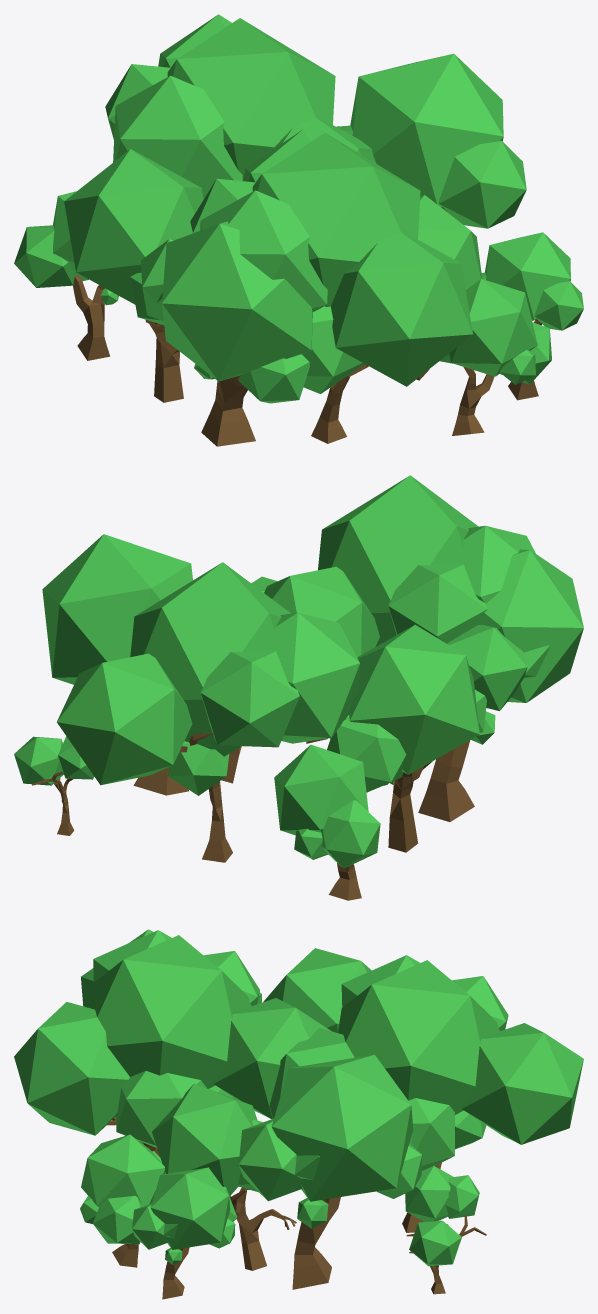
File: forest.glb
3 views of the same model, one above another, from view 1: azimuth 30°, elevation 25°; view 2: azimuth 150°, elevation 25°; view 3: azimuth 270°, elevation 25° (orthographic). The views are drawn at different scales.
Parts seen in each view (by area): view 1: Icosphere.162; view 2: Icosphere.162; view 3: Icosphere.162.
Part boxes in pixels (x1,y1,x2,y2): Icosphere.162: [14, 14, 583, 446]; Icosphere.162: [14, 475, 583, 900]; Icosphere.162: [14, 929, 583, 1299].
Bounding box in the file's own units: 4.61 × 2.9 × 5.67.
